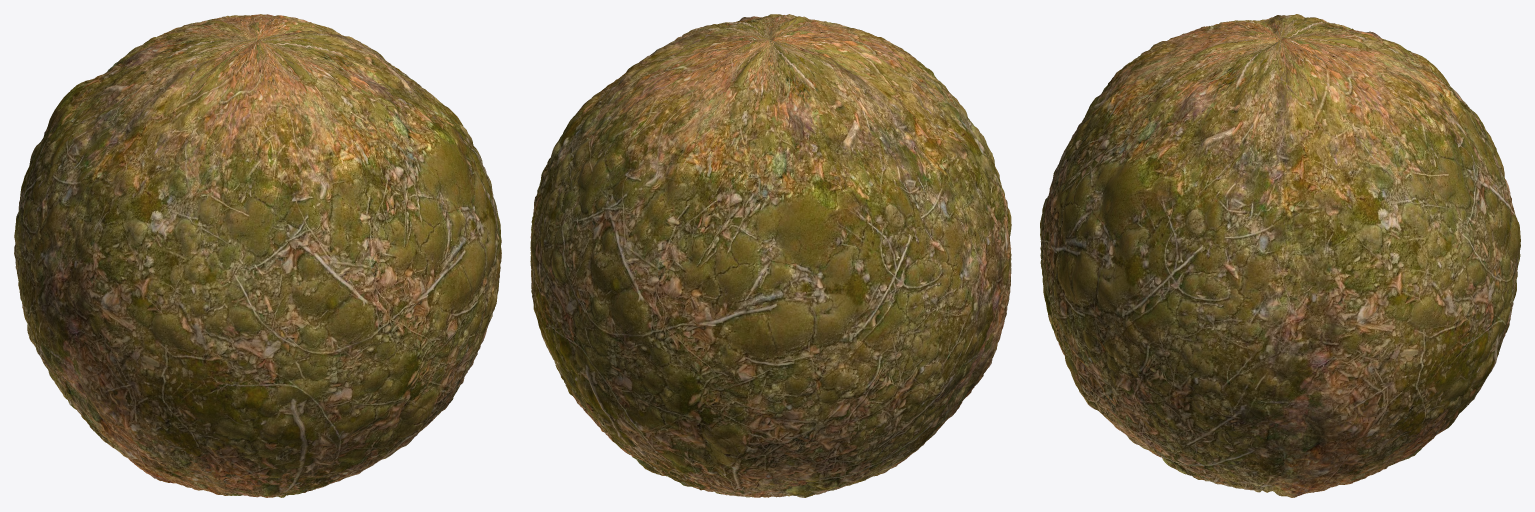
File: forest_leaves_02_1k-transformed.glb
The picture shows the model from 3 angles, left to right: view 1: azimuth 30°, elevation 25°; view 2: azimuth 150°, elevation 25°; view 3: azimuth 270°, elevation 25°; orthographic projection.
Visible parts, largest first — view 1: sphere_gltf; view 2: sphere_gltf; view 3: sphere_gltf.
Part boxes in pixels (bbox=[...]): sphere_gltf: bbox=[14, 14, 501, 497]; sphere_gltf: bbox=[530, 14, 1011, 497]; sphere_gltf: bbox=[1040, 14, 1520, 497].
Size of the model in its own units: 3.03 by 3.03 by 3.02.
Materials: 1 (1 with a texture image).
